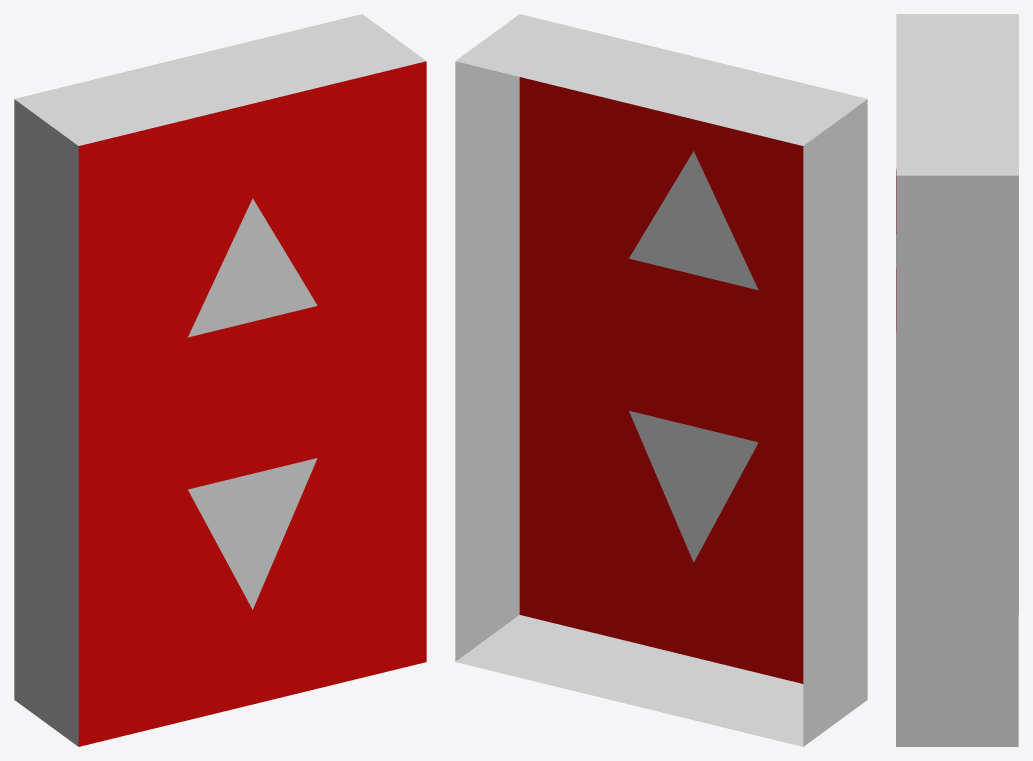
File: Elevator_button_outside.fbx
3 renders of one model, left to right at view 1: azimuth 30°, elevation 25°; view 2: azimuth 150°, elevation 25°; view 3: azimuth 270°, elevation 25°, orthographic. The views are drawn at different scales.
Parts seen in each view (by area): view 1: button1; view 2: button1; view 3: button1.
Boxes of the visible parts, x1,y1,x2,y2 form: button1: (14, 14, 426, 746); button1: (455, 14, 867, 746); button1: (896, 14, 1018, 746).
Size of the model in its own units: 47.18 by 77.8 by 15.14.
